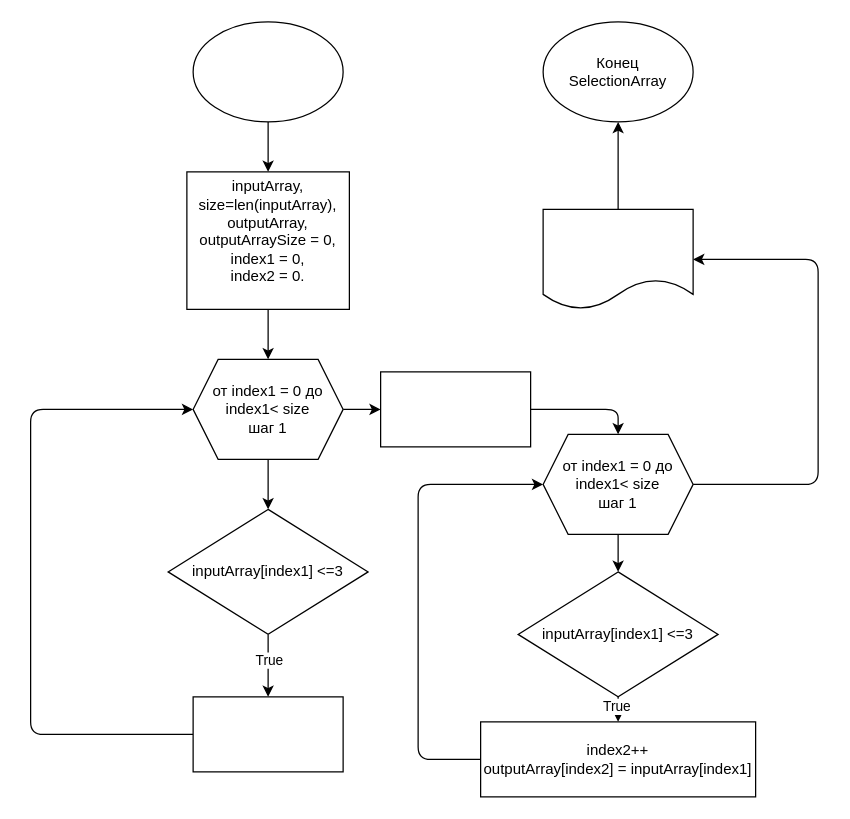
Image size: 850x819. Some labels were removed from this diagram. Here are the shapes that lost their labels. From the top down, the centre of each, then its label:
(x=267, y=71): Начало SelectionArray
(x=617, y=258): Возврат outputArray
(x=455, y=409): len(outputArray) = outputArraySize
(x=267, y=734): outputArraySize++
